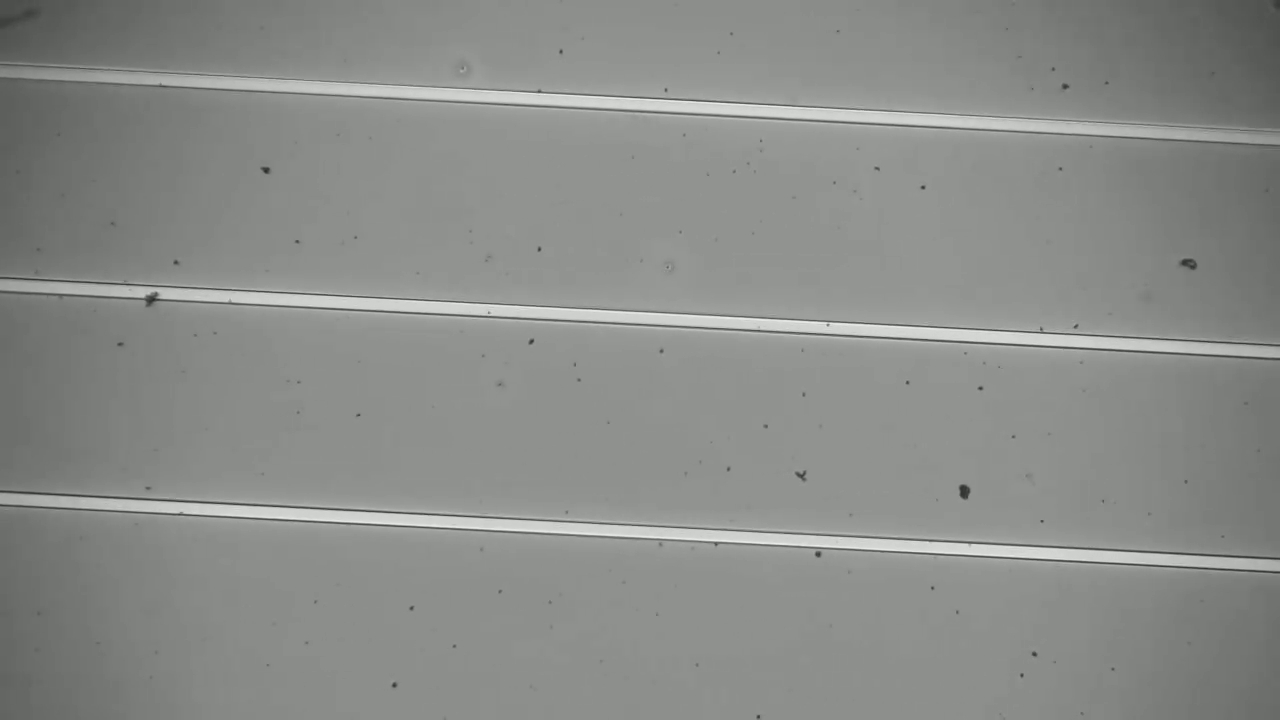stains_enbedded: (137, 277, 167, 308)
